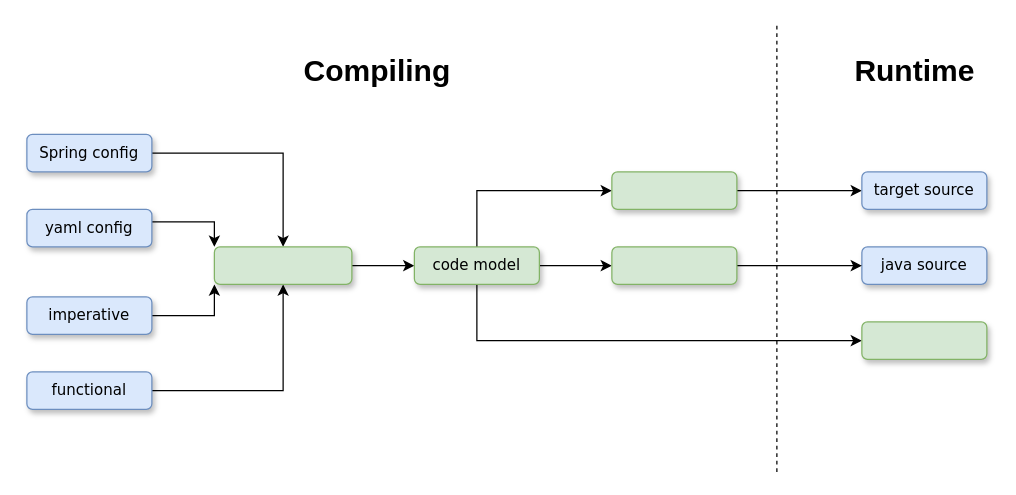
Some shapes in this 1016 by 495 pixel diagram are drawn without their labels. The shapes that lost their labels are listed below. From the top down, each one's centre as x and y in pixels, then its label:
At (x=675, y=192): "AOT target".
At (x=283, y=267): "Processor config".
At (x=675, y=267): "AOT java".
At (x=925, y=342): "interpreted".
